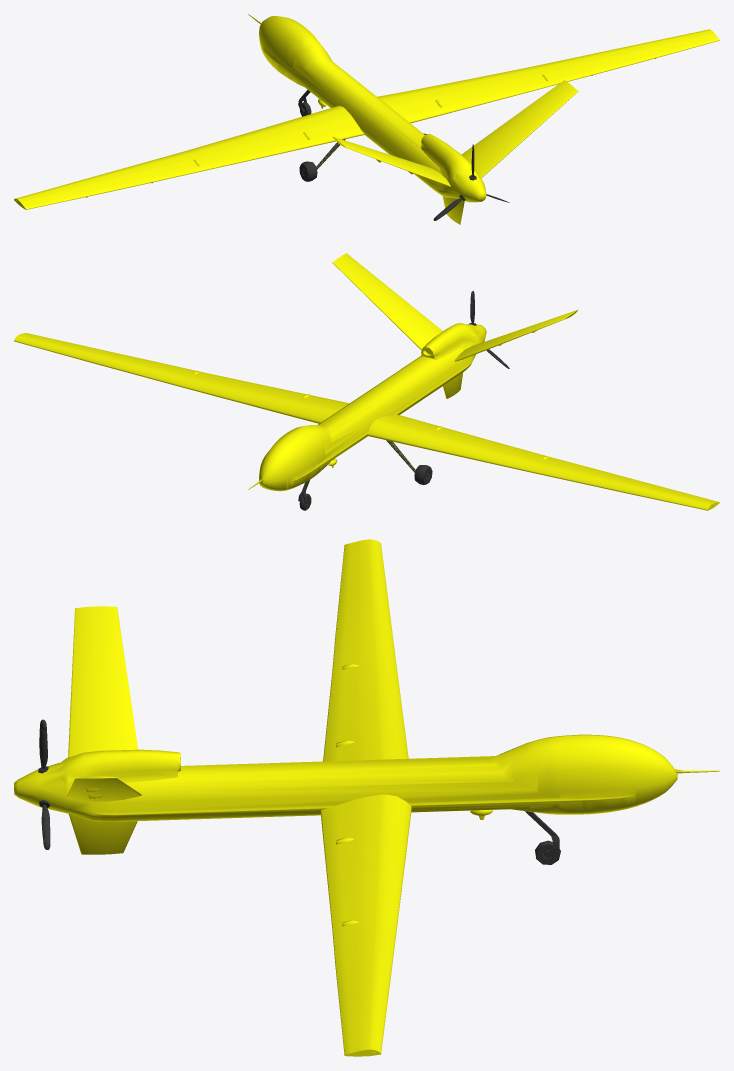
Rendered from Predator.dae.
3 views of the same model, one above another, from view 1: azimuth 30°, elevation 25°; view 2: azimuth 150°, elevation 25°; view 3: azimuth 270°, elevation 25° (orthographic). The views are drawn at different scales.
Parts seen in each view (by area): view 1: Group7, PredatorB_Wing_Main, PredatorB_Wing_Main12, PredatorB_TailFin (×2), Predator_landing_wheel; view 2: Group7, PredatorB_Wing_Main, PredatorB_Wing_Main12, PredatorB_TailFin (×2), Predator_landing_wheel; view 3: Group7, PredatorB_Wing_Main12, PredatorB_Wing_Main, PredatorB_TailFin (×2), Group2.
Part boxes in pixels (<box>): Group7: <box>259,16,486,202</box>; PredatorB_Wing_Main: <box>14,105,364,209</box>; PredatorB_Wing_Main12: <box>377,29,719,123</box>; PredatorB_TailFin (×2): <box>333,80,578,187</box>; Predator_landing_wheel: <box>299,139,345,181</box>; Group7: <box>259,323,486,491</box>; PredatorB_Wing_Main: <box>367,414,719,510</box>; PredatorB_Wing_Main12: <box>14,333,349,423</box>; PredatorB_TailFin (×2): <box>332,253,577,361</box>; Predator_landing_wheel: <box>386,440,432,484</box>; Group7: <box>14,734,677,821</box>; PredatorB_Wing_Main12: <box>320,794,411,1056</box>; PredatorB_Wing_Main: <box>323,539,408,761</box>; PredatorB_TailFin (×2): <box>67,606,141,801</box>; Group2: <box>69,814,137,854</box>.
Size of the model in its own units: 59.8 by 34.94 by 9.79.
